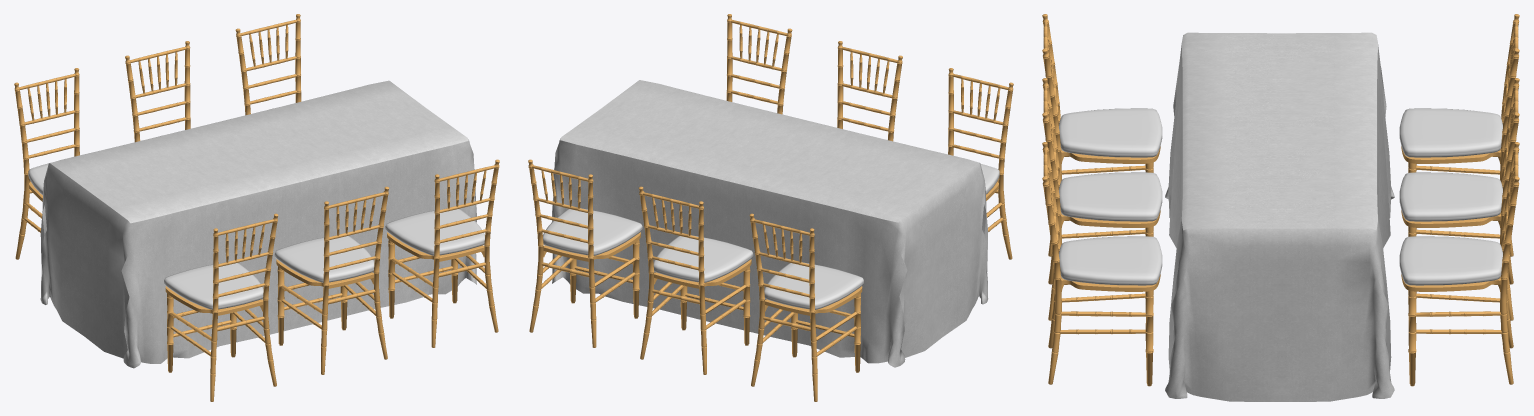
Rendered from banquet-6pax-182x76.glb.
3 renders of one model, left to right at view 1: azimuth 30°, elevation 25°; view 2: azimuth 150°, elevation 25°; view 3: azimuth 270°, elevation 25°, orthographic. The views are drawn at different scales.
Visible parts, largest first — view 1: Object001; view 2: Object001; view 3: Object001.
Part boxes in pixels (x1,y1,x2,y2): Object001: (14, 14, 499, 401); Object001: (528, 14, 1013, 401); Object001: (1042, 14, 1519, 401).
Bounding box in the file's own units: 191 × 90.28 × 188.
3 materials, 1 textured.
